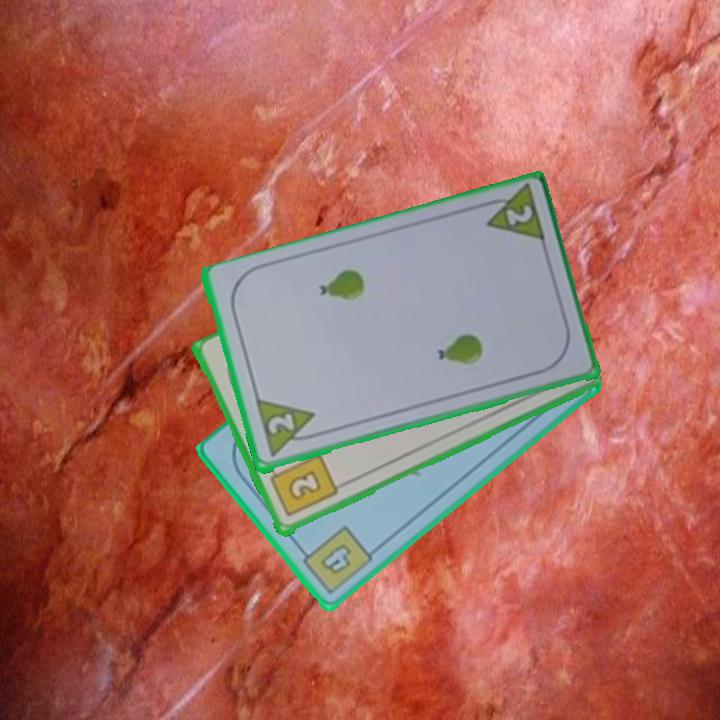2b: (265, 451, 340, 520)
2p: (475, 183, 549, 247), (264, 410, 297, 438)
4b: (294, 522, 376, 598)
